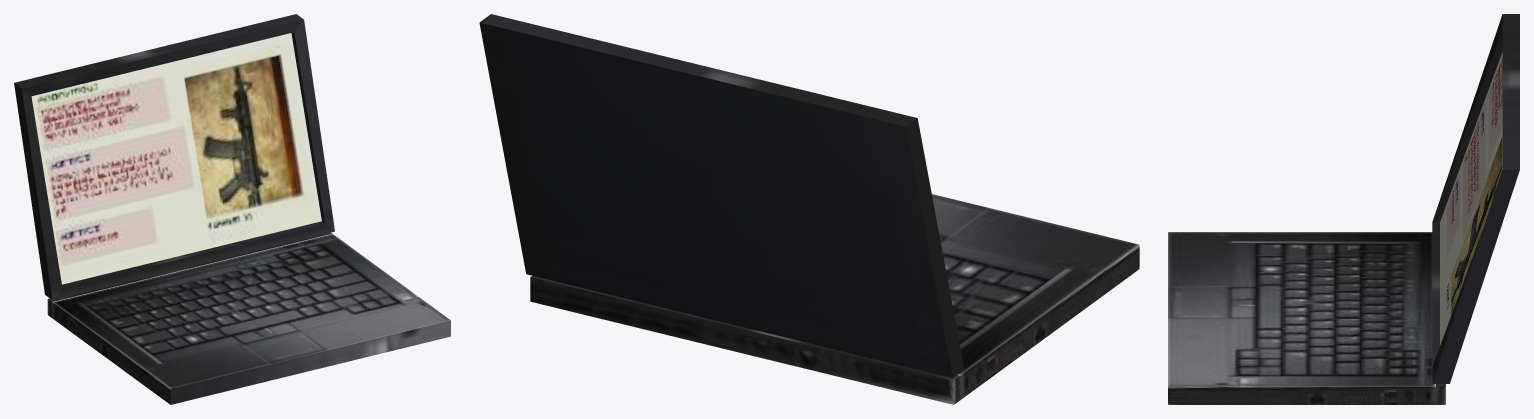
File: 4chan_laptop.FBX
3 views of the same model, side by side, from view 1: azimuth 30°, elevation 25°; view 2: azimuth 150°, elevation 25°; view 3: azimuth 270°, elevation 25° (orthographic). The views are drawn at different scales.
Visible parts, largest first — view 1: 4chan_laptop; view 2: 4chan_laptop; view 3: 4chan_laptop.
Boxes of the visible parts, x1,y1,x2,y2 form: 4chan_laptop: (14,14,450,404); 4chan_laptop: (479,14,1139,404); 4chan_laptop: (1168,14,1519,404).
Size of the model in its own units: 62.04 by 43.77 by 59.23.
